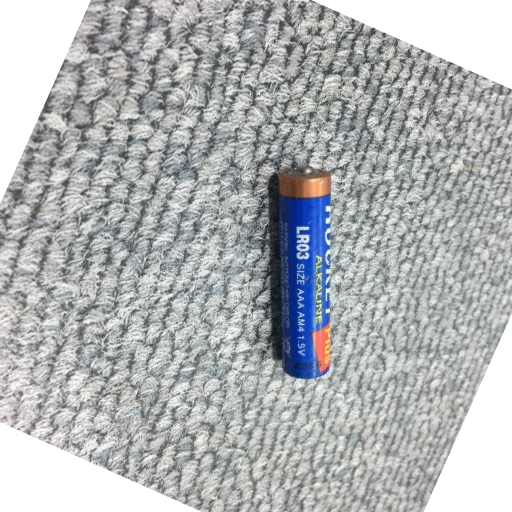Battery_0: (270, 157, 341, 387)
